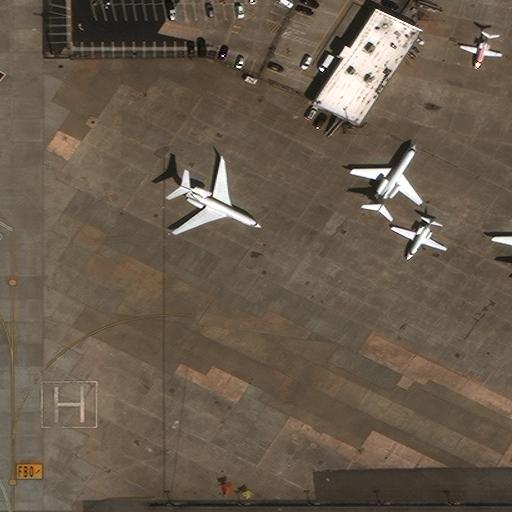Medium Civil Transport: (175, 161, 260, 234), (353, 143, 423, 212), (390, 217, 445, 260)
Small Civil Transport: (459, 33, 501, 69)
